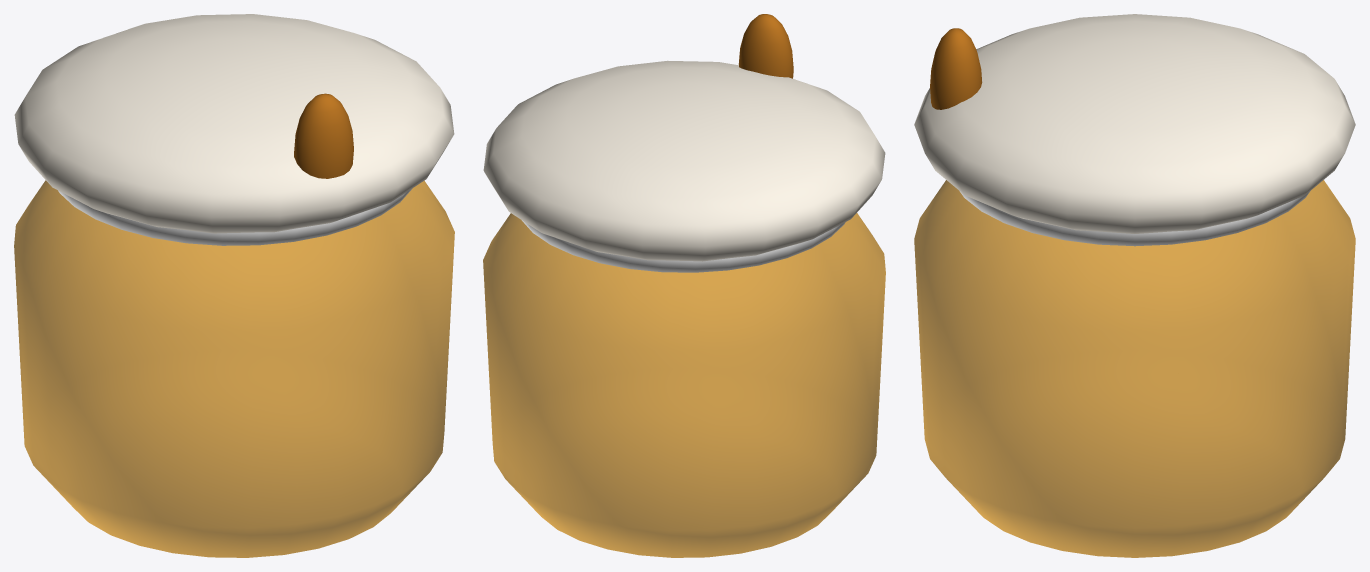
File: honigtopf.glb
The picture shows the model from 3 angles, left to right: view 1: azimuth 30°, elevation 25°; view 2: azimuth 150°, elevation 25°; view 3: azimuth 270°, elevation 25°; orthographic projection. The views are drawn at different scales.
Parts seen in each view (by area): view 1: honigtopf-glas, honigtopf-matt, honigtopf-akzent, honigtopf-lack; view 2: honigtopf-glas, honigtopf-matt, honigtopf-akzent, honigtopf-lack; view 3: honigtopf-glas, honigtopf-matt, honigtopf-akzent, honigtopf-lack.
Part boxes in pixels (left/top/right/bottom): honigtopf-glas: left=14, top=180, right=454, bottom=557; honigtopf-matt: left=14, top=14, right=454, bottom=233; honigtopf-akzent: left=58, top=188, right=412, bottom=245; honigtopf-lack: left=294, top=93, right=353, bottom=178; honigtopf-glas: left=483, top=213, right=885, bottom=557; honigtopf-matt: left=483, top=60, right=885, bottom=261; honigtopf-akzent: left=522, top=220, right=845, bottom=272; honigtopf-lack: left=738, top=14, right=793, bottom=78; honigtopf-glas: left=914, top=180, right=1355, bottom=557; honigtopf-matt: left=914, top=14, right=1355, bottom=233; honigtopf-akzent: left=959, top=191, right=1310, bottom=246; honigtopf-lack: left=930, top=28, right=982, bottom=109.
Size of the model in its own units: 0.42 by 0.48 by 0.42.
